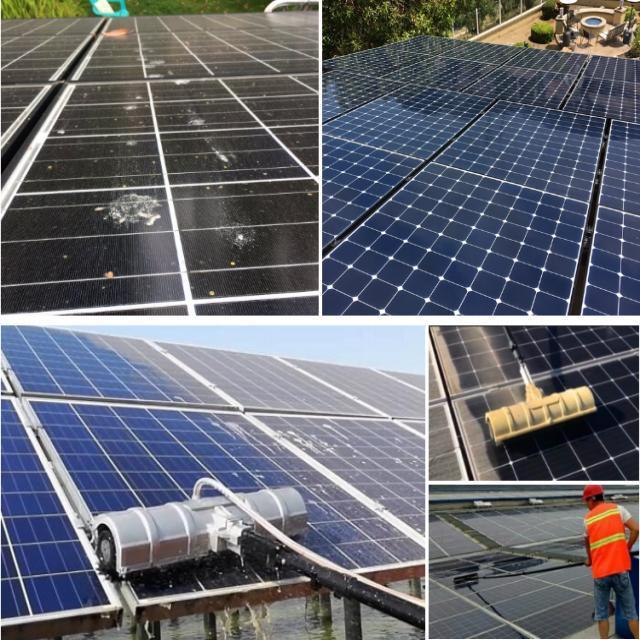faulty: (26, 400, 437, 599), (0, 189, 188, 311), (248, 419, 429, 545), (462, 362, 640, 488), (173, 184, 318, 300), (26, 135, 159, 192), (168, 135, 308, 187), (153, 81, 259, 132), (57, 86, 154, 137)
no faulty: (326, 166, 588, 319), (443, 101, 605, 194), (327, 86, 480, 162), (320, 136, 416, 256)
